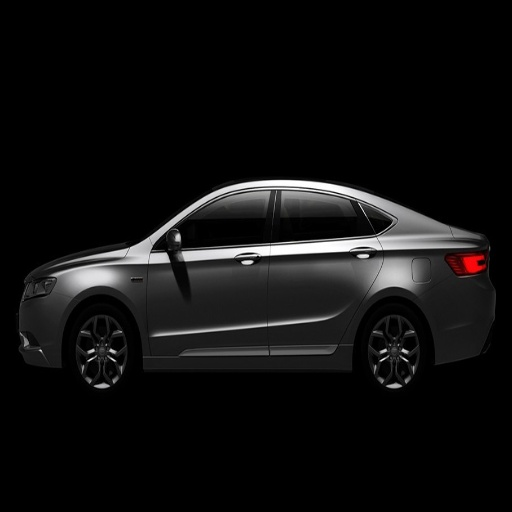back_left_door: (267, 187, 381, 354)
front_left_door: (148, 188, 275, 353)
